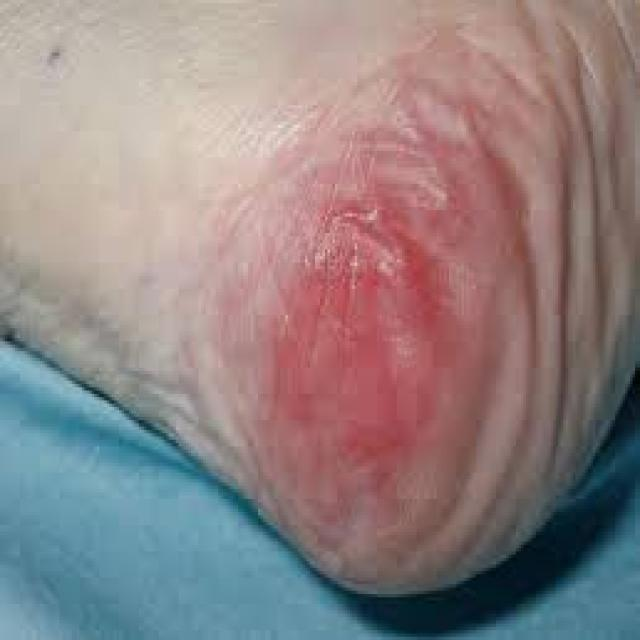stage-1: (263, 204, 452, 508)
